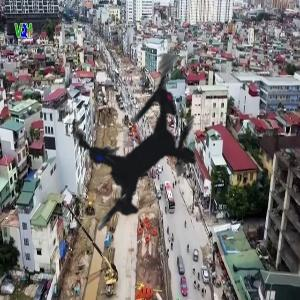drone: (2, 8, 282, 288)
